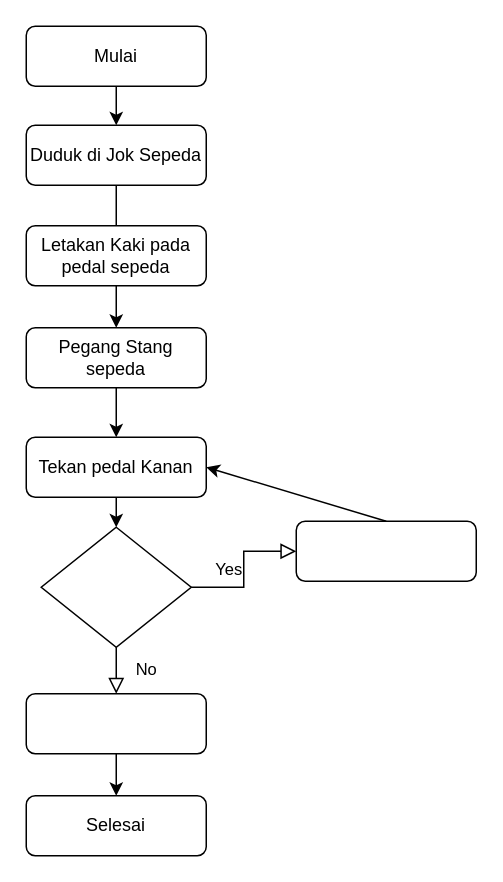
This 503x882 diagram has some shape labels left out. The shapes that lost their labels are listed below. From the top down, each one's centre as x and y in pixels, then its label:
At (x=385, y=550): "Tekan Pedal Kiri".
At (x=115, y=586): "Jika Melaju".
At (x=115, y=723): "Tekan Rem".
